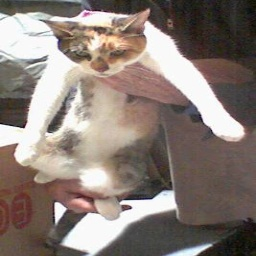cat: (18, 8, 245, 205)
